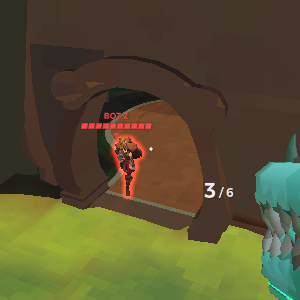model: (108, 132, 143, 197)
